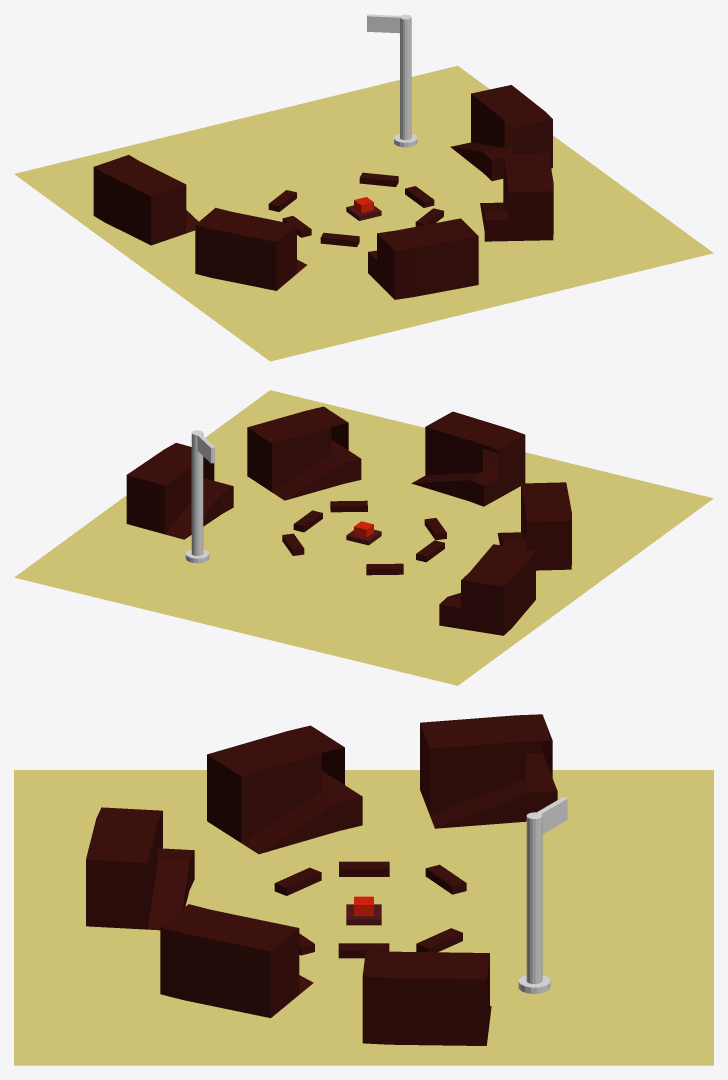
File: CampfireGraybox.fbx
The picture shows the model from 3 angles, top to bottom: view 1: azimuth 30°, elevation 25°; view 2: azimuth 150°, elevation 25°; view 3: azimuth 270°, elevation 25°; orthographic projection. The views are drawn at different scales.
Parts seen in each view (by area): view 1: Plane, Cube.009, Cube.011, Cube.012, Cube.010, Cube.008, Cylinder; view 2: Plane, Cube.008, Cube.009, Cube.010, Cube.012, Cube.011, Cylinder; view 3: Plane, Cube.011, Cube.012, Cube.008, Cube.010, Cube.009, Cylinder, Cube, Cube.005, Cube.001, Cube.004, Cube.003.
Part boxes in pixels (x1,y1,x2,y2): Plane: (14,65,713,361); Cube.009: (368,218,478,299); Cube.011: (195,207,306,290); Cube.012: (93,155,198,245); Cube.010: (450,85,552,180); Cube.008: (480,153,553,241); Cylinder: (367,14,417,147); Plane: (14,390,713,685); Cube.008: (247,406,361,500); Cube.009: (411,411,525,506); Cube.010: (126,443,233,539); Cube.012: (439,544,535,635); Cube.011: (497,482,571,570); Cylinder: (185,430,215,563); Plane: (14,770,713,1065); Cube.011: (207,725,362,854); Cube.012: (420,714,557,828); Cube.008: (160,904,313,1018); Cube.010: (362,950,491,1045); Cube.009: (86,807,194,930); Cylinder: (518,797,567,993); Cube: (339,861,389,876); Cube.005: (274,867,321,895); Cube.001: (425,864,466,894); Cube.004: (416,928,462,952); Cube.003: (338,943,389,958).
Size of the model in its own units: 5880 by 1664 by 5880.
